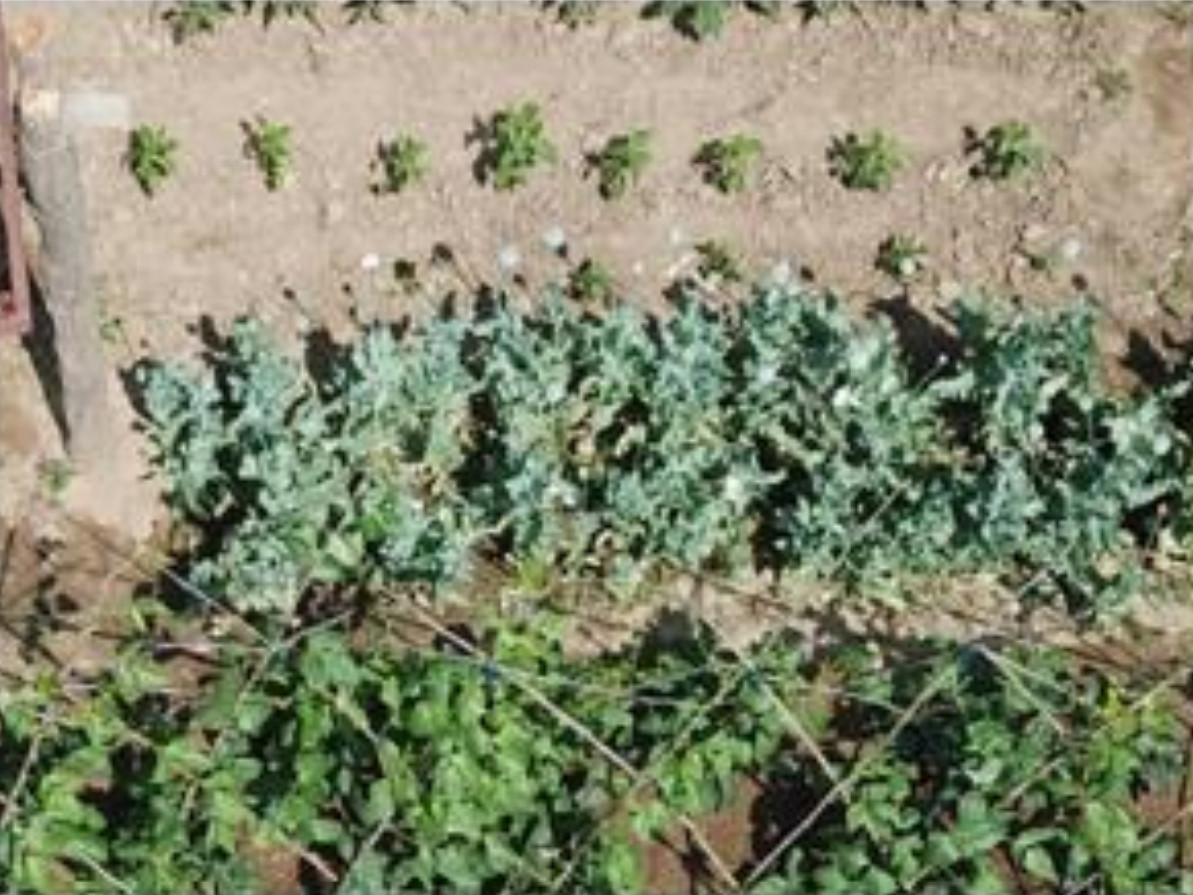Poppy: (130, 219, 1188, 619)
